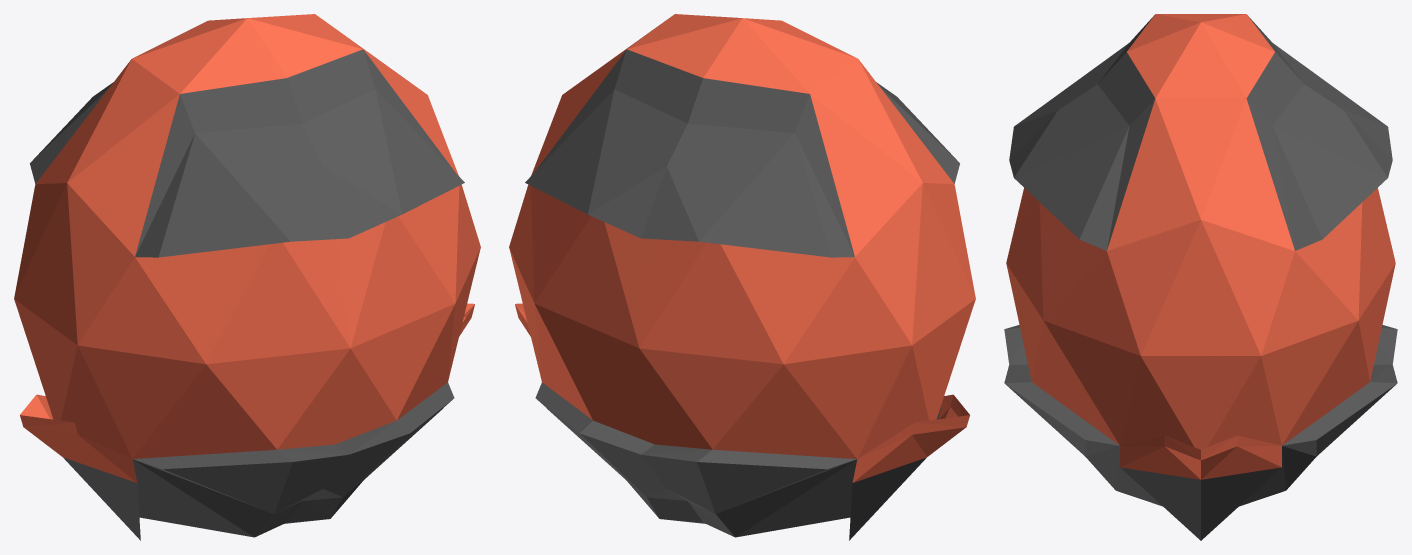
The model's file is PowerEgg.fbx.
3 renders of one model, left to right at view 1: azimuth 30°, elevation 25°; view 2: azimuth 150°, elevation 25°; view 3: azimuth 270°, elevation 25°, orthographic. The views are drawn at different scales.
Parts seen in each view (by area): view 1: Icosphere; view 2: Icosphere; view 3: Icosphere.
Boxes of the visible parts, box(x1,y1,x2,y2) form: Icosphere: box(14, 14, 480, 540); Icosphere: box(509, 14, 975, 540); Icosphere: box(1004, 14, 1397, 540).
Size of the model in its own units: 215 by 230 by 170.
